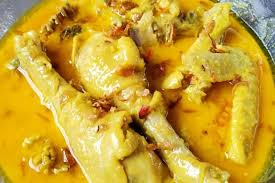Opor ayam: (12, 4, 271, 181)
